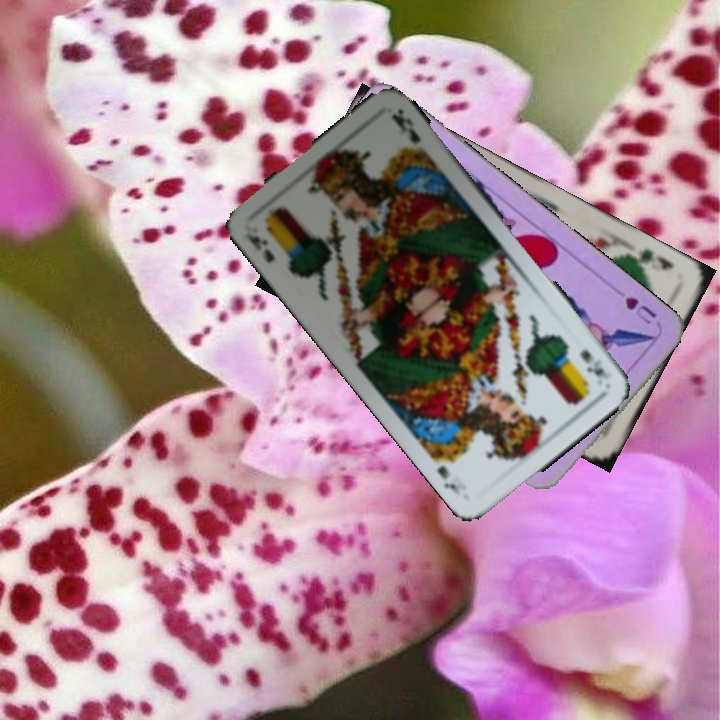EK: (242, 228, 277, 266), (575, 345, 609, 380)
GK: (627, 244, 676, 273)
HU: (620, 292, 659, 328)
